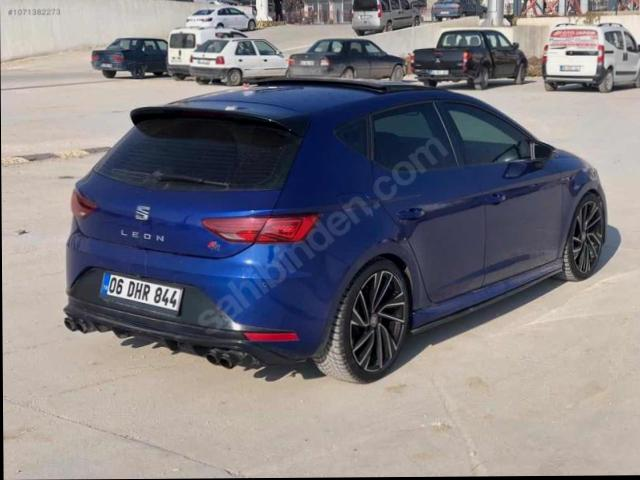plaka: (103, 273, 182, 312)
